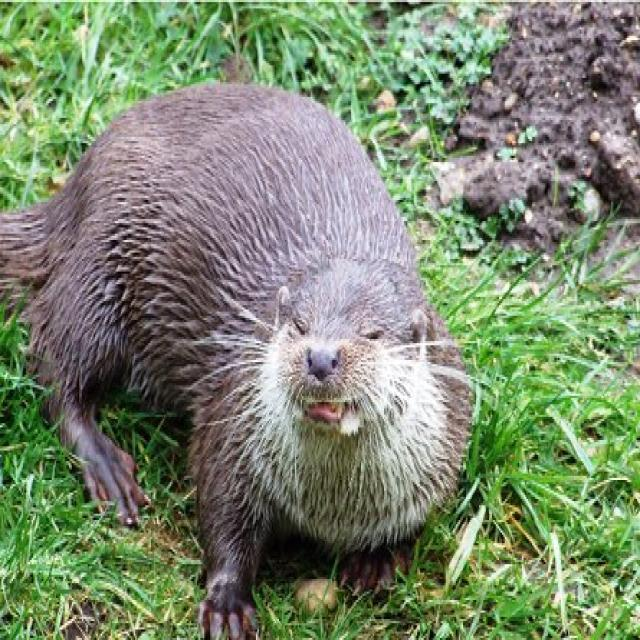otter: (1, 82, 471, 640)
